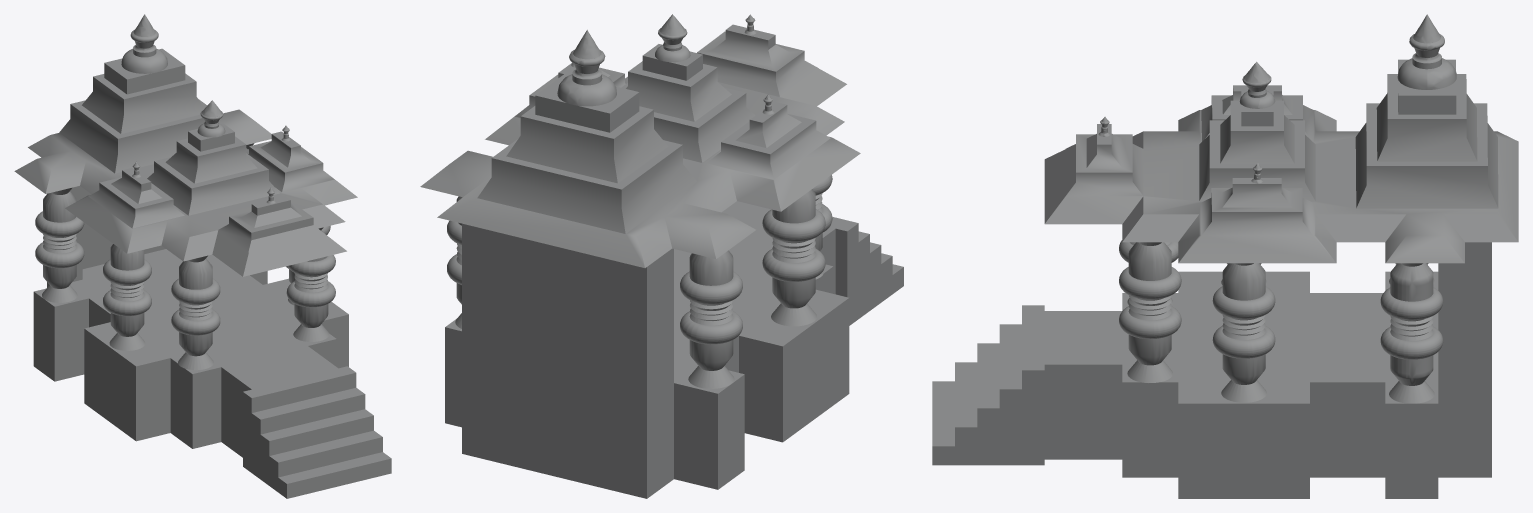
File: small_indian_temple_structure.glb
3 views of the same model, side by side, from view 1: azimuth 30°, elevation 25°; view 2: azimuth 150°, elevation 25°; view 3: azimuth 270°, elevation 25° (orthographic). The views are drawn at different scales.
Parts seen in each view (by area): view 1: Geode; view 2: Geode; view 3: Geode.
Boxes of the visible parts, box(x1,y1,x2,y2) form: Geode: box(14, 14, 391, 498); Geode: box(420, 14, 903, 498); Geode: box(932, 14, 1518, 498).
Size of the model in its own units: 0.9298 by 1.27 by 1.61.
1 material, 1 textured.
